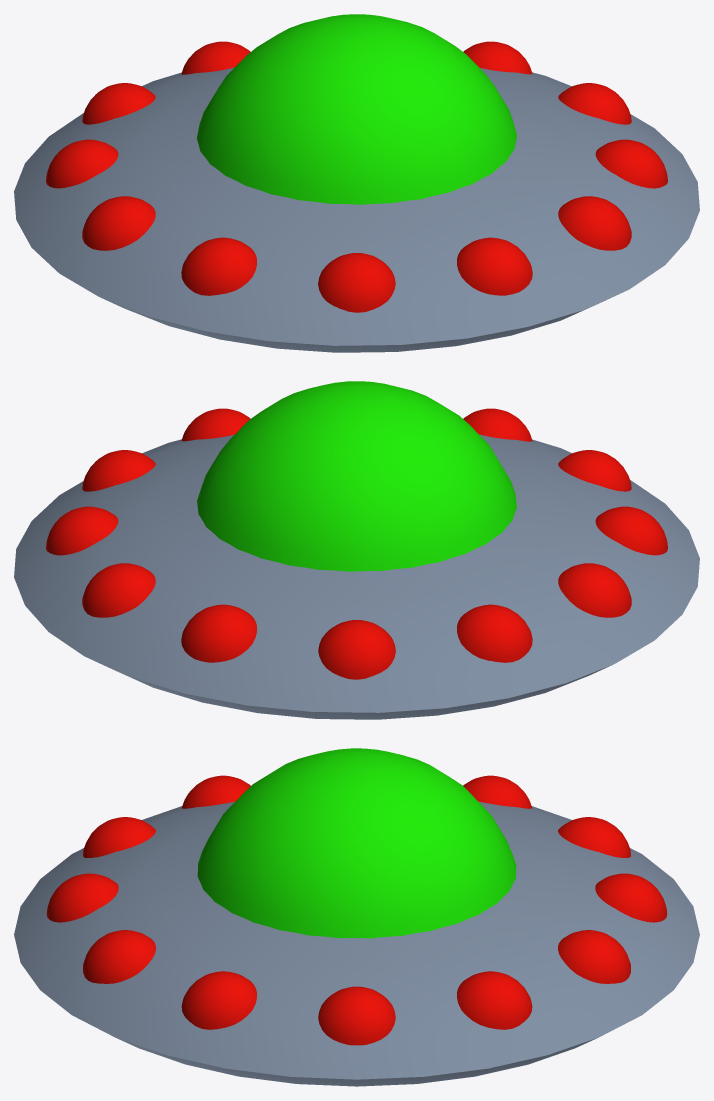
The model's file is jeremywoodsster-ufo-2582.glb.
3 renders of one model, top to bottom at view 1: azimuth 30°, elevation 25°; view 2: azimuth 150°, elevation 25°; view 3: azimuth 270°, elevation 25°, orthographic.
Visible parts, largest first — view 1: UFOCenter, UFODome; view 2: UFOCenter, UFODome; view 3: UFOCenter, UFODome.
Boxes of the visible parts, <box> form: UFOCenter: <box>14,41,699,352</box>; UFODome: <box>196,14,516,204</box>; UFOCenter: <box>14,408,699,719</box>; UFODome: <box>197,381,516,571</box>; UFOCenter: <box>14,775,699,1086</box>; UFODome: <box>197,748,516,938</box>.
Bounding box in the file's own units: 1.46 × 0.6288 × 1.46.
